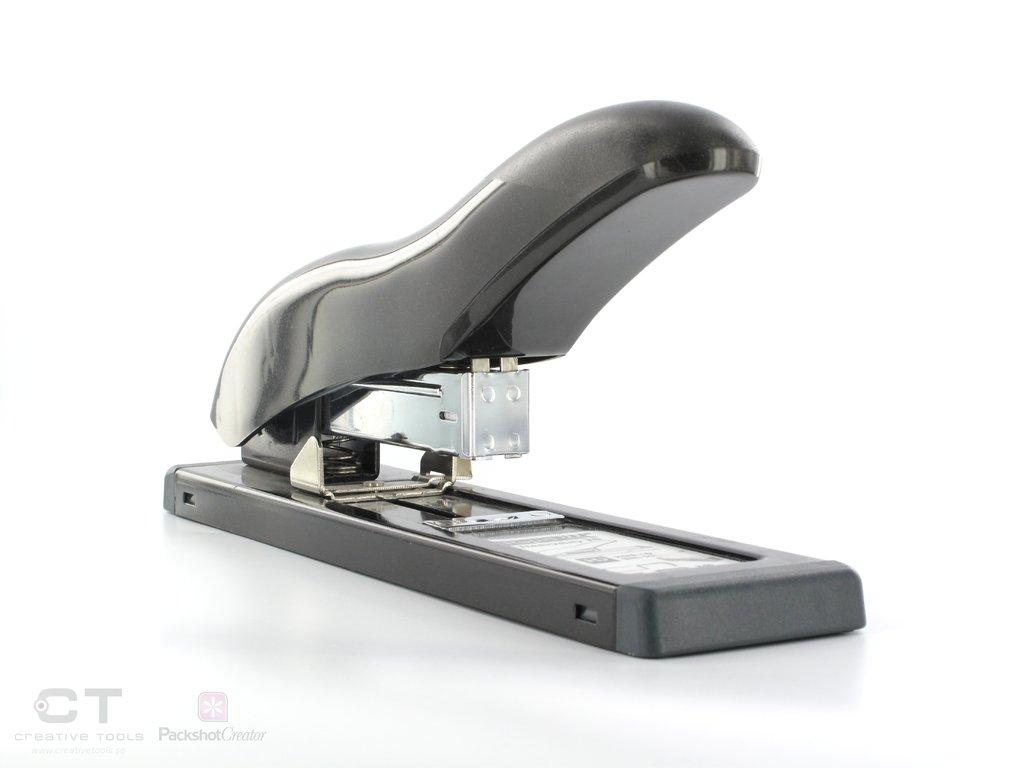Book: (162, 455, 866, 659)
